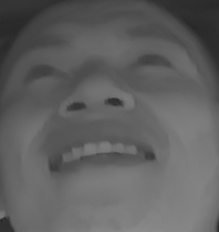eye: (17, 57, 68, 88), (129, 43, 180, 74)
mouth: (45, 120, 161, 195)
